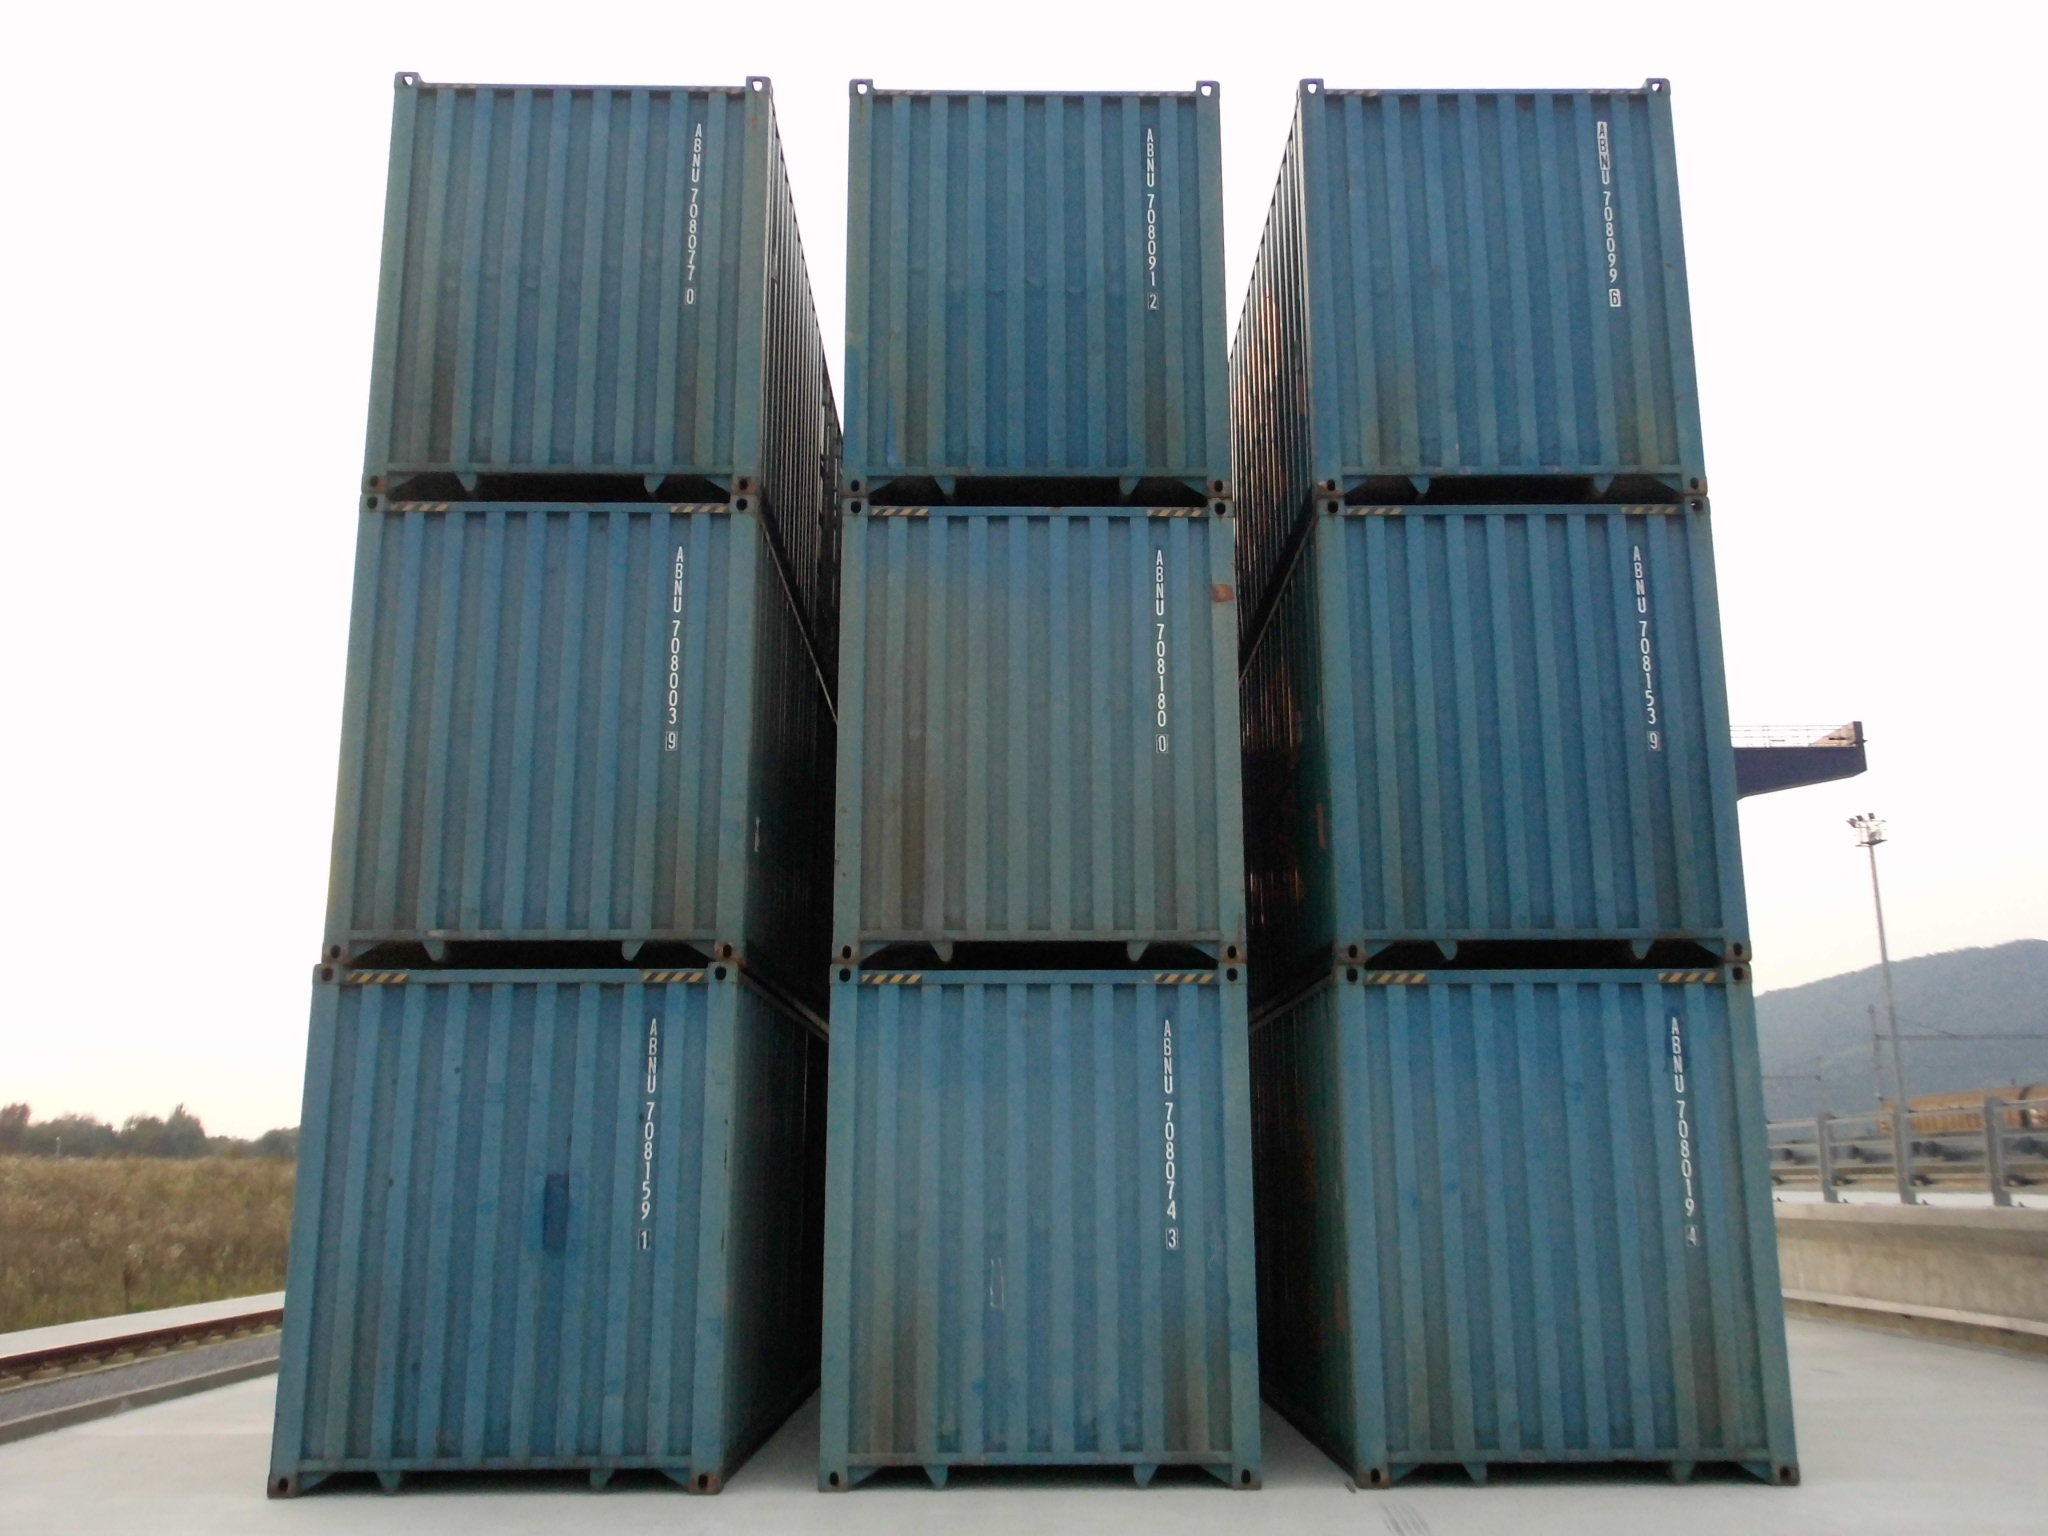container_no_door: (1371, 978, 1775, 1483), (835, 978, 1240, 1480), (310, 971, 713, 1475), (1313, 505, 1727, 954), (385, 79, 747, 486), (856, 77, 1216, 486), (858, 524, 1218, 933), (352, 516, 710, 925), (1326, 84, 1684, 490)
